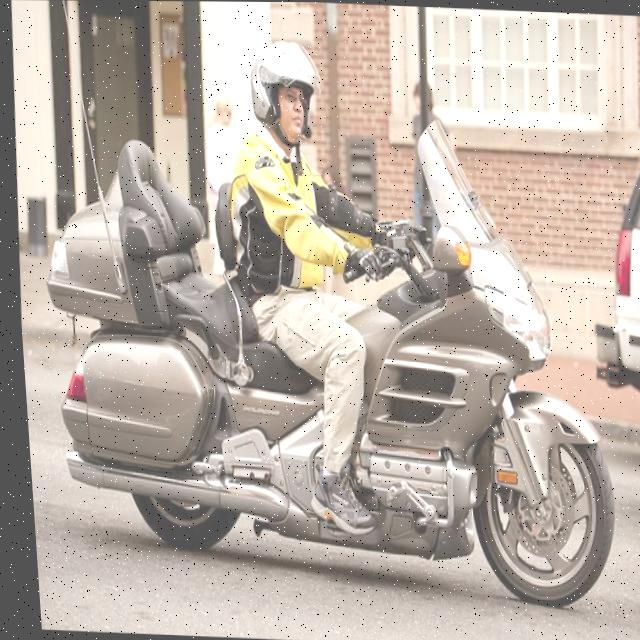motorcycle: (20, 105, 640, 607)
